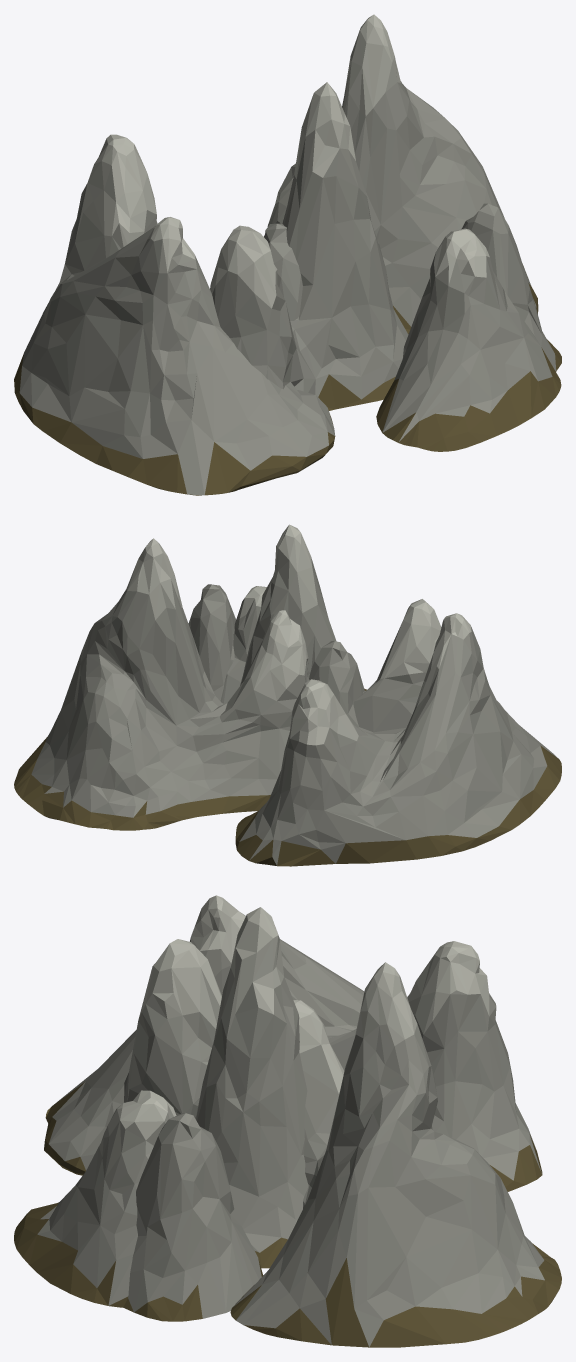
Rendered from RTS_Fantasy_Mountains_2_Blender.fbx.
3 renders of one model, top to bottom at view 1: azimuth 30°, elevation 25°; view 2: azimuth 150°, elevation 25°; view 3: azimuth 270°, elevation 25°, orthographic. The views are drawn at different scales.
Visible parts, largest first — view 1: Mountain_Group_1, Mountain_Group_2, Mountain_Single; view 2: Mountain_Group_1, Mountain_Group_2, Mountain_Single; view 3: Mountain_Group_1, Mountain_Group_2.
Boxes of the visible parts, x1,y1,x2,y2 form: Mountain_Group_1: (14, 14, 561, 495); Mountain_Group_2: (210, 82, 561, 410); Mountain_Single: (264, 223, 302, 320); Mountain_Group_1: (14, 538, 561, 866); Mountain_Group_2: (188, 524, 441, 733); Mountain_Single: (309, 641, 364, 727); Mountain_Group_1: (14, 895, 561, 1347); Mountain_Group_2: (123, 907, 308, 1321).
Size of the model in its own units: 459 by 249 by 384.
